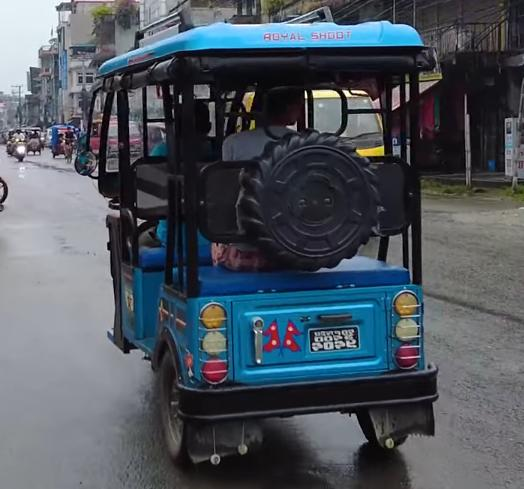e-rickshaw: (78, 19, 439, 475)
